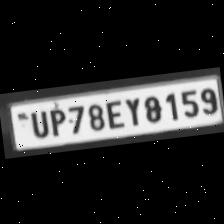1: (160, 88, 180, 120)
5: (175, 84, 199, 118)
7: (63, 100, 86, 134)
8: (138, 90, 164, 124), (82, 97, 106, 130)
9: (195, 82, 221, 114)
E: (101, 96, 125, 128)
P: (44, 104, 68, 136)
U: (24, 106, 48, 138)
Y: (120, 94, 144, 125)
